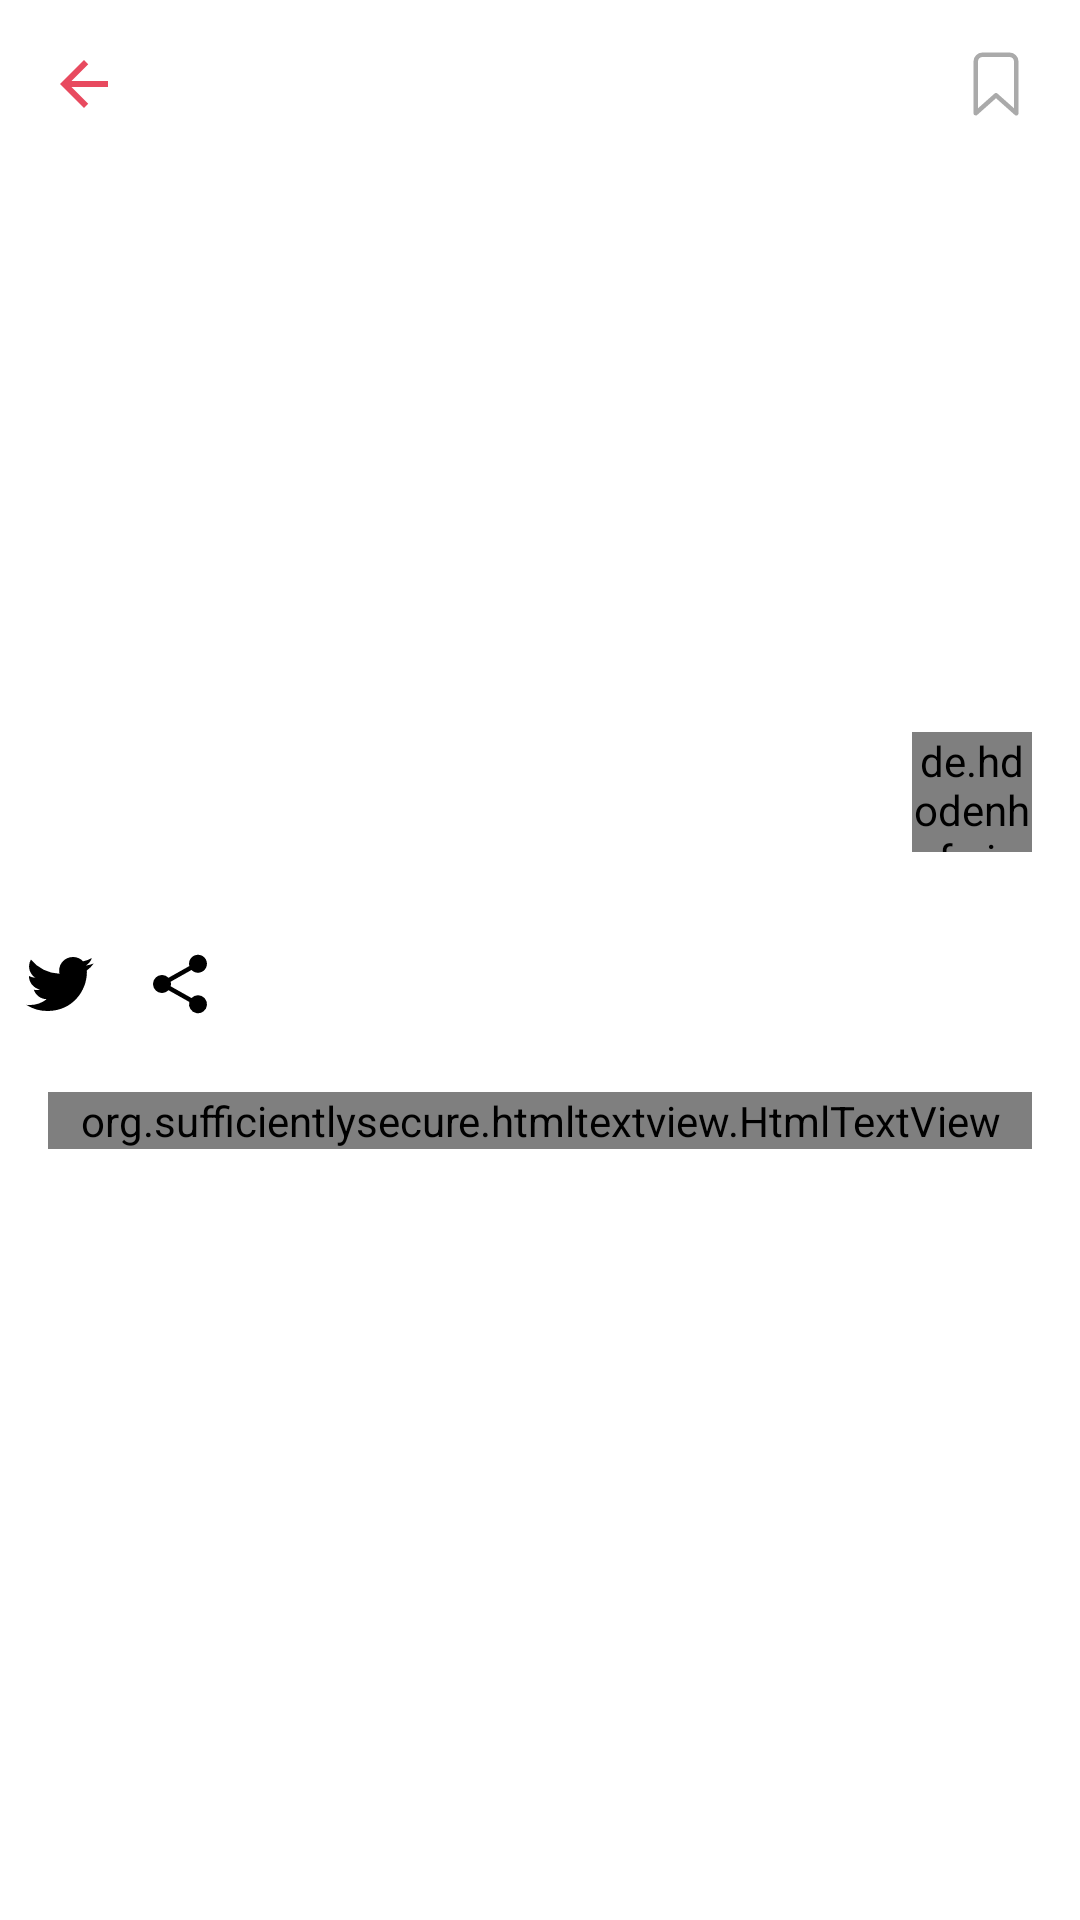

Screen size 1080 × 1920. Icon name, then its box in pixels as (x1, y1, x2, y2):
Favourite button: (973, 52, 1019, 116)
Go back button: (60, 60, 108, 108)
Share button: (153, 954, 207, 1014)
